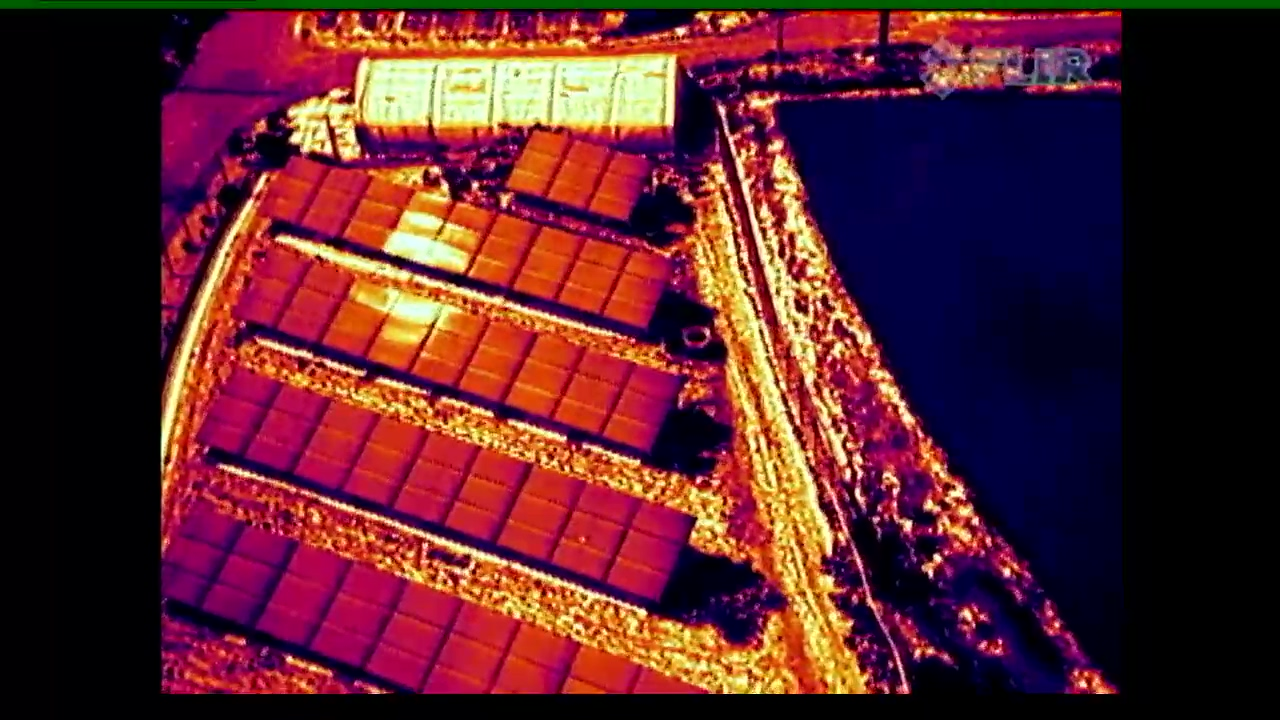hotspot: (540, 484, 642, 587)
